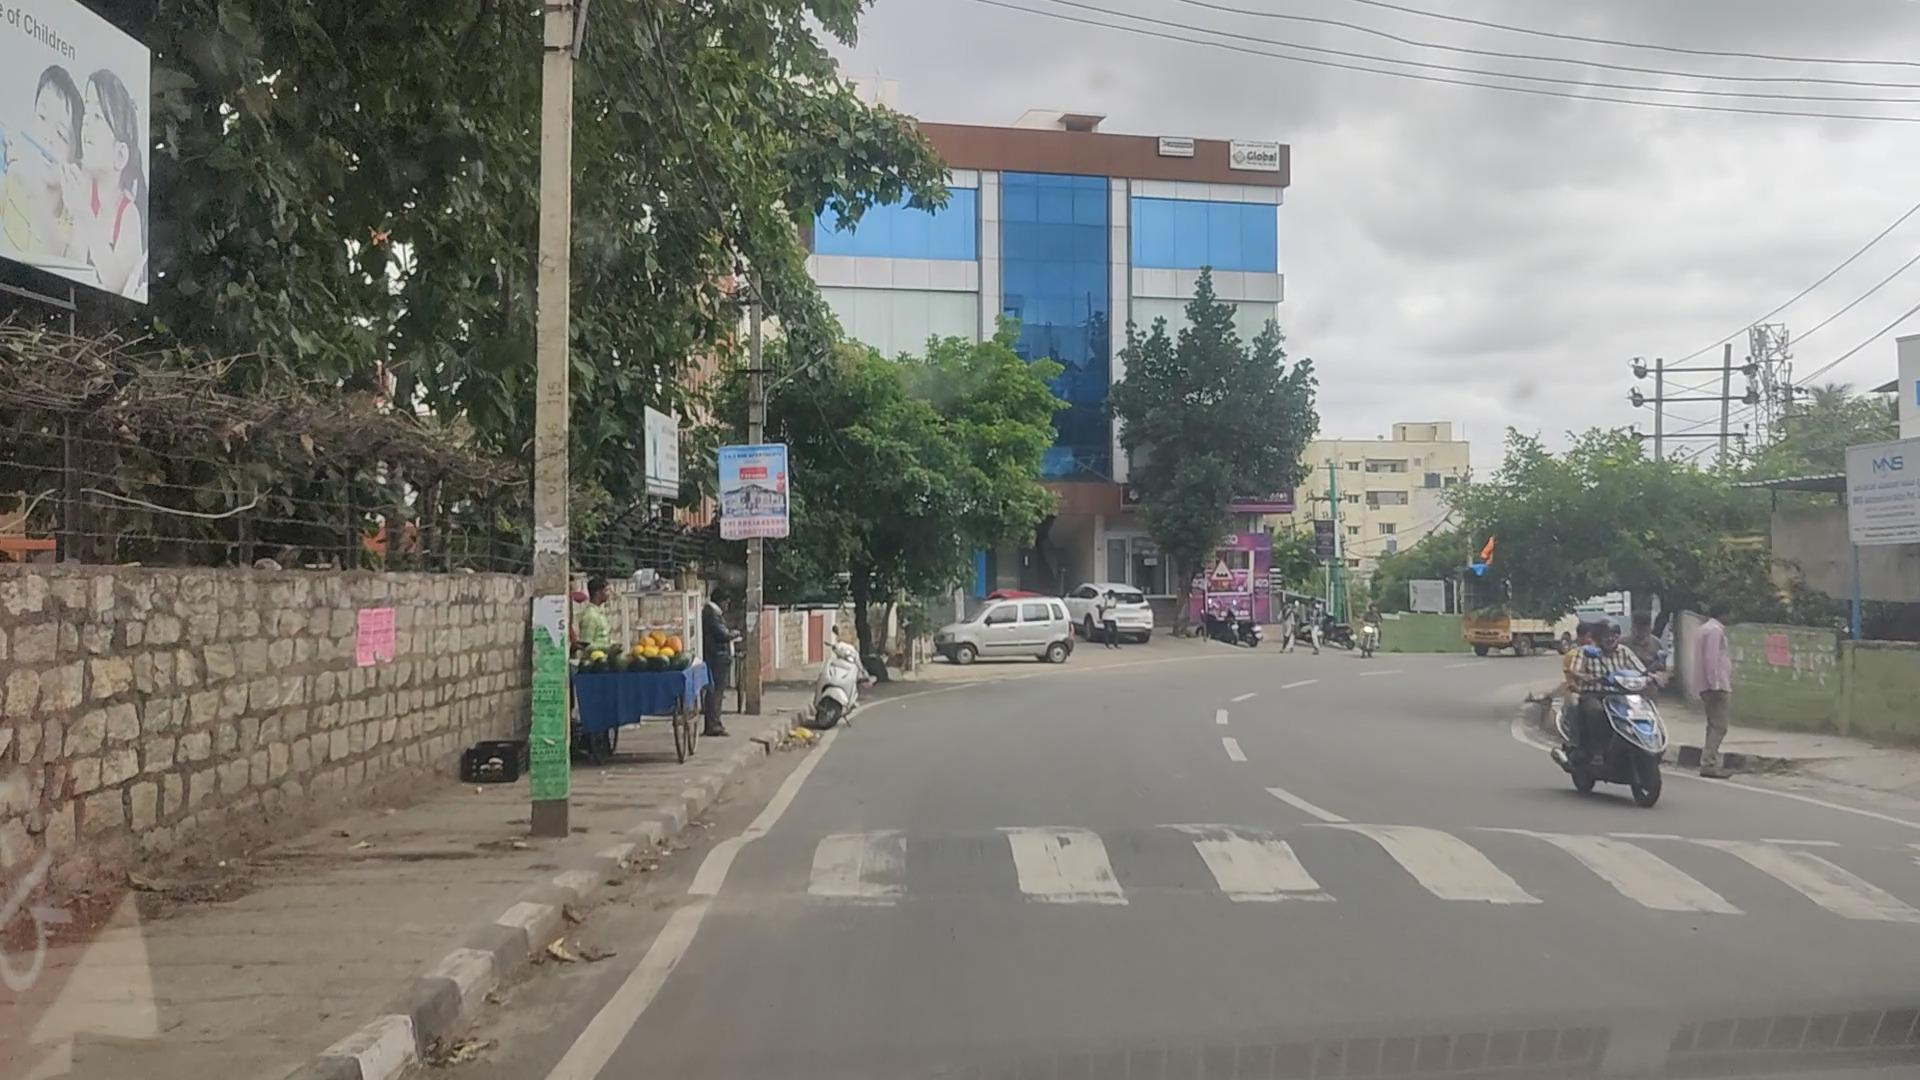LMV: (1572, 611, 1668, 796)
SpeedBump: (728, 818, 1878, 931)
